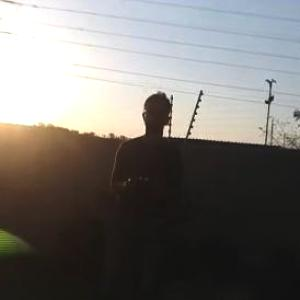follow: (104, 86, 184, 299)
